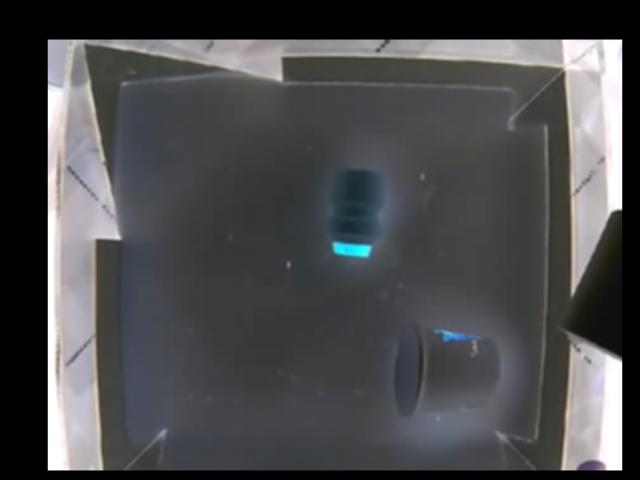Bottle: (326, 165, 390, 255)
Cup: (384, 323, 504, 420)
